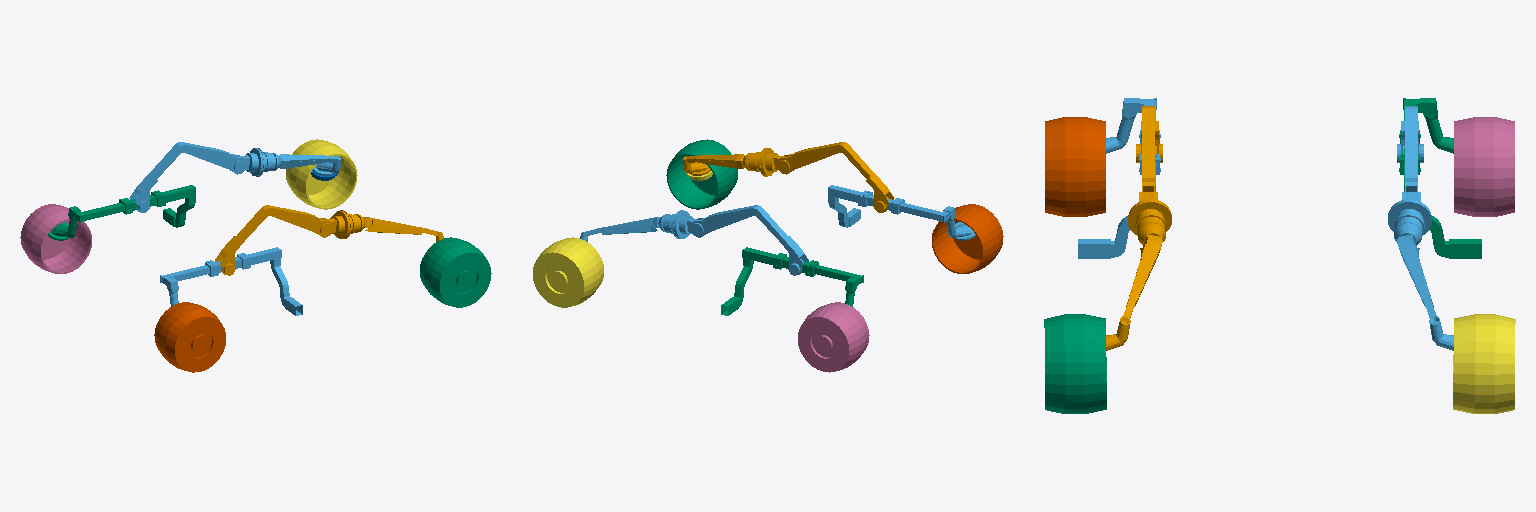
The robot description file, URDF, robot "opportunity":
<?xml version='1.0' encoding='utf-8'?>
<robot name="opportunity">
  <!--MarsLab authored derivative; NASA provides cited visualization meshes, not this URDF. Link masses are estimates; see DERIVATION.md.-->
  <link name="Body_Chassis">
    <inertial>
      <origin xyz="0.101524464665 0.018145873436 0.694502162512" rpy="0 0 0" />
      <mass value="158.8" />
      <inertia ixx="39.24171144180523" ixy="0.7053872464771085" ixz="-2.683968455902145" iyy="30.8514115343005" iyz="-0.07447931930157761" izz="51.503542565817945" />
    </inertial>
    <visual>
      <geometry>
        <mesh filename="meshes/Body_Chassis.dae" />
      </geometry>
    </visual>
    <collision>
      <origin xyz="0.05 0 0.48" rpy="0 0 0" />
      <geometry>
        <box size="1 0.7 0.35" />
      </geometry>
    </collision>
  </link>
  <link name="Body_RockerLeft">
    <inertial>
      <origin xyz="0.0562261823111 -0.00610918760585 -0.0244341850884" rpy="0 0 0" />
      <mass value="4.0" />
      <inertia ixx="0.03420255485000018" ixy="-0.032421066152354516" ixz="0.06185048436172913" iyy="0.3719923073581094" iyz="0.010061129856562101" izz="0.3569276371185565" />
    </inertial>
    <visual>
      <geometry>
        <mesh filename="meshes/Body_RockerLeft.dae" />
      </geometry>
    </visual>
  </link>
  <link name="Body_BogieLeft">
    <inertial>
      <origin xyz="-0.0280667204987 0.0483483614339 -0.0465686990499" rpy="0 0 0" />
      <mass value="3.0" />
      <inertia ixx="0.02615619304134699" ixy="0.009033455162128487" ixz="0.005940648093727005" iyy="0.14183182803181077" iyz="0.010653904955182161" izz="0.14170821827999025" />
    </inertial>
    <visual>
      <geometry>
        <mesh filename="meshes/Body_BogieLeft.dae" />
      </geometry>
    </visual>
  </link>
  <link name="Body_WheelLeftFront">
    <inertial>
      <origin xyz="0 0 0" rpy="0 0 0" />
      <mass value="1.5" />
      <inertia ixx="0.009618299360667165" ixy="0.0" ixz="0.0" iyy="0.012675000000000002" iyz="0.0" izz="0.009618299360667165" />
    </inertial>
    <visual>
      <geometry>
        <mesh filename="meshes/Body_WheelLeftFront.dae" />
      </geometry>
    </visual>
    <collision>
      <origin xyz="0 0 0" rpy="1.5707963267948966 0 0" />
      <geometry>
        <cylinder radius="0.13" length="0.1620073914527893" />
      </geometry>
    </collision>
  </link>
  <link name="Body_SteerLeftFront">
    <inertial>
      <origin xyz="2.78673810677e-05 -0.00563386253031 -0.0208301551272" rpy="0 0 0" />
      <mass value="0.8" />
      <inertia ixx="0.0012156075968744323" ixy="-1.2543687346600053e-07" ixz="1.374248543850598e-07" iyy="0.0011538448721667288" iyz="-0.00013992035455464568" izz="0.001800420714213713" />
    </inertial>
    <visual>
      <geometry>
        <mesh filename="meshes/Body_SteerLeftFront.dae" />
      </geometry>
    </visual>
  </link>
  <link name="Body_WheelLeftMiddle">
    <inertial>
      <origin xyz="0 0 0" rpy="0 0 0" />
      <mass value="1.5" />
      <inertia ixx="0.009537505817415975" ixy="0.0" ixz="0.0" iyy="0.012675000000000002" iyz="0.0" izz="0.009537505817415975" />
    </inertial>
    <visual>
      <geometry>
        <mesh filename="meshes/Body_WheelLeftMiddle.dae" />
      </geometry>
    </visual>
    <collision>
      <origin xyz="0 0 0" rpy="1.5707963267948966 0 0" />
      <geometry>
        <cylinder radius="0.13" length="0.16000014543533325" />
      </geometry>
    </collision>
  </link>
  <link name="Body_WheelLeftRear">
    <inertial>
      <origin xyz="0 0 0" rpy="0 0 0" />
      <mass value="1.5" />
      <inertia ixx="0.009537510585793668" ixy="0.0" ixz="0.0" iyy="0.012675000000000002" iyz="0.0" izz="0.009537510585793668" />
    </inertial>
    <visual>
      <geometry>
        <mesh filename="meshes/Body_WheelLeftRear.dae" />
      </geometry>
    </visual>
    <collision>
      <origin xyz="0 0 0" rpy="1.5707963267948966 0 0" />
      <geometry>
        <cylinder radius="0.13" length="0.1600002646446228" />
      </geometry>
    </collision>
  </link>
  <link name="Body_SteerLeftRear">
    <inertial>
      <origin xyz="3.2679903319e-06 -0.005666036365 -0.00815952900312" rpy="0 0 0" />
      <mass value="0.8" />
      <inertia ixx="0.001216024105004135" ixy="1.96170990562905e-09" ixz="5.6040641172039333e-08" iyy="0.0011543636539482454" iyz="-0.00013997225791440027" izz="0.0018009134187842335" />
    </inertial>
    <visual>
      <geometry>
        <mesh filename="meshes/Body_SteerLeftRear.dae" />
      </geometry>
    </visual>
  </link>
  <link name="Body_RockerRight">
    <inertial>
      <origin xyz="0.0562579531268 0.0060979276294 -0.0244479541416" rpy="0 0 0" />
      <mass value="4.0" />
      <inertia ixx="0.03421491488132511" ixy="0.0324243456411728" ixz="0.06188232492931106" iyy="0.37219329910110305" iyz="-0.010062631092439545" izz="0.35711677466567143" />
    </inertial>
    <visual>
      <geometry>
        <mesh filename="meshes/Body_RockerRight.dae" />
      </geometry>
    </visual>
  </link>
  <link name="Body_BogieRight">
    <inertial>
      <origin xyz="-0.0280667785994 -0.0483482883327 -0.0465686974691" rpy="0 0 0" />
      <mass value="3.0" />
      <inertia ixx="0.02615616724788096" ixy="-0.009033311064962038" ixz="0.005940638397530534" iyy="0.14183186266797393" iyz="-0.010653909873715117" izz="0.14170821862944177" />
    </inertial>
    <visual>
      <geometry>
        <mesh filename="meshes/Body_BogieRight.dae" />
      </geometry>
    </visual>
  </link>
  <link name="Body_WheelRightFront">
    <inertial>
      <origin xyz="0 0 0" rpy="0 0 0" />
      <mass value="1.5" />
      <inertia ixx="0.009609554090103894" ixy="0.0" ixz="0.0" iyy="0.012675000000000002" iyz="0.0" izz="0.009609554090103894" />
    </inertial>
    <visual>
      <geometry>
        <mesh filename="meshes/Body_WheelRightFront.dae" />
      </geometry>
    </visual>
    <collision>
      <origin xyz="0 0 0" rpy="1.5707963267948966 0 0" />
      <geometry>
        <cylinder radius="0.13" length="0.16179132461547852" />
      </geometry>
    </collision>
  </link>
  <link name="Body_SteerRightFront">
    <inertial>
      <origin xyz="2.73690742084e-05 0.00566733739701 -0.0207934497125" rpy="0 0 0" />
      <mass value="0.8" />
      <inertia ixx="0.0012162725388197794" ixy="1.2522014345428544e-07" ixz="1.3740548283625033e-07" iyy="0.00115466201059527" iyz="0.00013997687030704588" izz="0.001801216568359987" />
    </inertial>
    <visual>
      <geometry>
        <mesh filename="meshes/Body_SteerRightFront.dae" />
      </geometry>
    </visual>
  </link>
  <link name="Body_WheelRightMiddle">
    <inertial>
      <origin xyz="0 0 0" rpy="0 0 0" />
      <mass value="1.5" />
      <inertia ixx="0.009537505817415975" ixy="0.0" ixz="0.0" iyy="0.012675000000000002" iyz="0.0" izz="0.009537505817415975" />
    </inertial>
    <visual>
      <geometry>
        <mesh filename="meshes/Body_WheelRightMiddle.dae" />
      </geometry>
    </visual>
    <collision>
      <origin xyz="0 0 0" rpy="1.5707963267948966 0 0" />
      <geometry>
        <cylinder radius="0.13" length="0.16000014543533325" />
      </geometry>
    </collision>
  </link>
  <link name="Body_WheelRightRear">
    <inertial>
      <origin xyz="0 0 0" rpy="0 0 0" />
      <mass value="1.5" />
      <inertia ixx="0.009537504625322107" ixy="0.0" ixz="0.0" iyy="0.012675000000000002" iyz="0.0" izz="0.009537504625322107" />
    </inertial>
    <visual>
      <geometry>
        <mesh filename="meshes/Body_WheelRightRear.dae" />
      </geometry>
    </visual>
    <collision>
      <origin xyz="0 0 0" rpy="1.5707963267948966 0 0" />
      <geometry>
        <cylinder radius="0.13" length="0.16000011563301086" />
      </geometry>
    </collision>
  </link>
  <link name="Body_SteerRightRear">
    <inertial>
      <origin xyz="-2.28460730622e-06 0.00566328548944 -0.0208003460713" rpy="0 0 0" />
      <mass value="0.8" />
      <inertia ixx="0.001216143977255671" ixy="-2.0106474707404234e-09" ixz="5.617602554242041e-08" iyy="0.0011545100043741901" iyz="0.00013998180467083012" izz="0.0018010565463952412" />
    </inertial>
    <visual>
      <geometry>
        <mesh filename="meshes/Body_SteerRightRear.dae" />
      </geometry>
    </visual>
  </link>
  <joint name="LEFT_DIFFERENTIAL" type="revolute">
    <parent link="Body_Chassis" />
    <child link="Body_RockerLeft" />
    <origin xyz="0.220036037266 0.365735766788 0.363962841817" rpy="0 0 0" />
    <axis xyz="0 1 0" />
    <limit lower="-3.141592653589793" upper="3.141592653589793" effort="200" velocity="10" />
    <dynamics damping="5" friction="0" />
  </joint>
  <joint name="LEFT_BOGIE" type="revolute">
    <parent link="Body_RockerLeft" />
    <child link="Body_BogieLeft" />
    <origin xyz="-0.446908086538 -0.026789098978 -0.0675369203091" rpy="0 0 0" />
    <axis xyz="0 1 0" />
    <limit lower="-3.141592653589793" upper="3.141592653589793" effort="200" velocity="10" />
    <dynamics damping="5" friction="0" />
  </joint>
  <joint name="LF_STEER" type="revolute">
    <parent link="Body_RockerLeft" />
    <child link="Body_SteerLeftFront" />
    <origin xyz="0.491758227348 0.164750500272 -0.19204840064" rpy="0 0 0" />
    <axis xyz="0 0 1" />
    <limit lower="-1.2" upper="1.2" effort="200" velocity="10" />
    <dynamics damping="5" friction="0" />
  </joint>
  <joint name="LF_DRIVE" type="continuous">
    <parent link="Body_SteerLeftFront" />
    <child link="Body_WheelLeftFront" />
    <origin xyz="0 0 -0.0419144411765" rpy="0 0 0" />
    <axis xyz="0 1 0" />
    <limit lower="-3.141592653589793" upper="3.141592653589793" effort="200" velocity="10" />
    <dynamics damping="5" friction="0" />
  </joint>
  <joint name="LM_DRIVE" type="continuous">
    <parent link="Body_BogieLeft" />
    <child link="Body_WheelLeftMiddle" />
    <origin xyz="0.226872049272 0.136053445439 -0.166425921508" rpy="0 0 0" />
    <axis xyz="0 1 0" />
    <limit lower="-3.141592653589793" upper="3.141592653589793" effort="200" velocity="10" />
    <dynamics damping="5" friction="0" />
  </joint>
  <joint name="LR_STEER" type="revolute">
    <parent link="Body_BogieLeft" />
    <child link="Body_SteerLeftRear" />
    <origin xyz="-0.273365966044 0.19153959925 -0.137158215046" rpy="0 0 0" />
    <axis xyz="0 0 1" />
    <limit lower="-1.2" upper="1.2" effort="200" velocity="10" />
    <dynamics damping="5" friction="0" />
  </joint>
  <joint name="LR_DRIVE" type="continuous">
    <parent link="Body_SteerLeftRear" />
    <child link="Body_WheelLeftRear" />
    <origin xyz="0 0 -0.029267706462" rpy="0 0 0" />
    <axis xyz="0 1 0" />
    <limit lower="-3.141592653589793" upper="3.141592653589793" effort="200" velocity="10" />
    <dynamics damping="5" friction="0" />
  </joint>
  <joint name="RIGHT_DIFFERENTIAL" type="revolute">
    <parent link="Body_Chassis" />
    <child link="Body_RockerRight" />
    <origin xyz="0.220035620034 -0.365743341545 0.363962812015" rpy="0 0 0" />
    <axis xyz="0 1 0" />
    <limit lower="-3.141592653589793" upper="3.141592653589793" effort="200" velocity="10" />
    <dynamics damping="5" friction="0" />
    <mimic joint="LEFT_DIFFERENTIAL" multiplier="-1" offset="0" />
  </joint>
  <joint name="RIGHT_BOGIE" type="revolute">
    <parent link="Body_RockerRight" />
    <child link="Body_BogieRight" />
    <origin xyz="-0.446908086538 0.0267897248268 -0.0675368309021" rpy="0 0 0" />
    <axis xyz="0 1 0" />
    <limit lower="-3.141592653589793" upper="3.141592653589793" effort="200" velocity="10" />
    <dynamics damping="5" friction="0" />
  </joint>
  <joint name="RF_STEER" type="revolute">
    <parent link="Body_RockerRight" />
    <child link="Body_SteerRightFront" />
    <origin xyz="0.491758644581 -0.164742925515 -0.192048177123" rpy="0 0 0" />
    <axis xyz="0 0 1" />
    <limit lower="-1.2" upper="1.2" effort="200" velocity="10" />
    <dynamics damping="5" friction="0" />
  </joint>
  <joint name="RF_DRIVE" type="continuous">
    <parent link="Body_SteerRightFront" />
    <child link="Body_WheelRightFront" />
    <origin xyz="0 0 -0.0419146348916" rpy="0 0 0" />
    <axis xyz="0 1 0" />
    <limit lower="-3.141592653589793" upper="3.141592653589793" effort="200" velocity="10" />
    <dynamics damping="5" friction="0" />
  </joint>
  <joint name="RM_DRIVE" type="continuous">
    <parent link="Body_BogieRight" />
    <child link="Body_WheelRightMiddle" />
    <origin xyz="0.226872466505 -0.13604649653 -0.166425981113" rpy="0 0 0" />
    <axis xyz="0 1 0" />
    <limit lower="-3.141592653589793" upper="3.141592653589793" effort="200" velocity="10" />
    <dynamics damping="5" friction="0" />
  </joint>
  <joint name="RR_STEER" type="revolute">
    <parent link="Body_BogieRight" />
    <child link="Body_SteerRightRear" />
    <origin xyz="-0.273365548812 -0.191532650342 -0.124510884285" rpy="0 0 0" />
    <axis xyz="0 0 1" />
    <limit lower="-1.2" upper="1.2" effort="200" velocity="10" />
    <dynamics damping="5" friction="0" />
  </joint>
  <joint name="RR_DRIVE" type="continuous">
    <parent link="Body_SteerRightRear" />
    <child link="Body_WheelRightRear" />
    <origin xyz="0 0 -0.0419150968276" rpy="0 0 0" />
    <axis xyz="0 1 0" />
    <limit lower="-3.141592653589793" upper="3.141592653589793" effort="200" velocity="10" />
    <dynamics damping="5" friction="0" />
  </joint>
</robot>

--- What the picture shows (computed from the rendered views, not written in the file) ---
Views: 3 orthographic renders of the robot side by side, from view 1: azimuth 30°, elevation 25°; view 2: azimuth 150°, elevation 25°; view 3: azimuth 270°, elevation 25°.
Model opportunity with 15 links and 14 joints (8 revolute, 6 continuous), rooted at Body_Chassis, posed all joints at 0.
Visible links, largest first — view 1: Body_WheelRightRear, Body_WheelRightFront, Body_RockerLeft, Body_RockerRight, Body_WheelLeftRear, Body_WheelLeftFront, Body_BogieLeft, Body_BogieRight; view 2: Body_WheelLeftRear, Body_WheelLeftFront, Body_RockerRight, Body_RockerLeft, Body_WheelRightRear, Body_WheelRightFront, Body_BogieRight, Body_BogieLeft; view 3: Body_WheelRightFront, Body_WheelLeftFront, Body_WheelRightRear, Body_WheelLeftRear, Body_RockerLeft, Body_RockerRight, Body_BogieLeft, Body_BogieRight.
Boxes of the visible links, x1,y1,x2,y2 form: Body_WheelRightRear: (154,302,225,372); Body_WheelRightFront: (420,237,491,307); Body_RockerLeft: (129,142,340,212); Body_RockerRight: (215,205,443,275); Body_WheelLeftRear: (20,204,91,273); Body_WheelLeftFront: (286,139,357,209); Body_BogieLeft: (48,185,195,240); Body_BogieRight: (160,247,302,315); Body_WheelLeftRear: (798,302,869,372); Body_WheelLeftFront: (533,237,603,307); Body_RockerRight: (683,142,894,212); Body_RockerLeft: (580,205,808,275); Body_WheelRightRear: (932,204,1003,273); Body_WheelRightFront: (666,139,737,209); Body_BogieRight: (828,185,975,240); Body_BogieLeft: (721,247,863,315); Body_WheelRightFront: (1044,314,1106,413); Body_WheelLeftFront: (1453,314,1515,413); Body_WheelRightRear: (1045,117,1105,216); Body_WheelLeftRear: (1454,117,1514,216); Body_RockerLeft: (1388,106,1453,350); Body_RockerRight: (1106,106,1171,350); Body_BogieLeft: (1399,98,1481,258); Body_BogieRight: (1078,98,1160,258).
Size in the robot's own frame: 1.47 by 1.22 by 0.5164 metres.
10 mesh visuals loaded from 15 distinct referenced files (10 Collada DAE); not drawn: 5 (reference not matched to a file when rendering).
